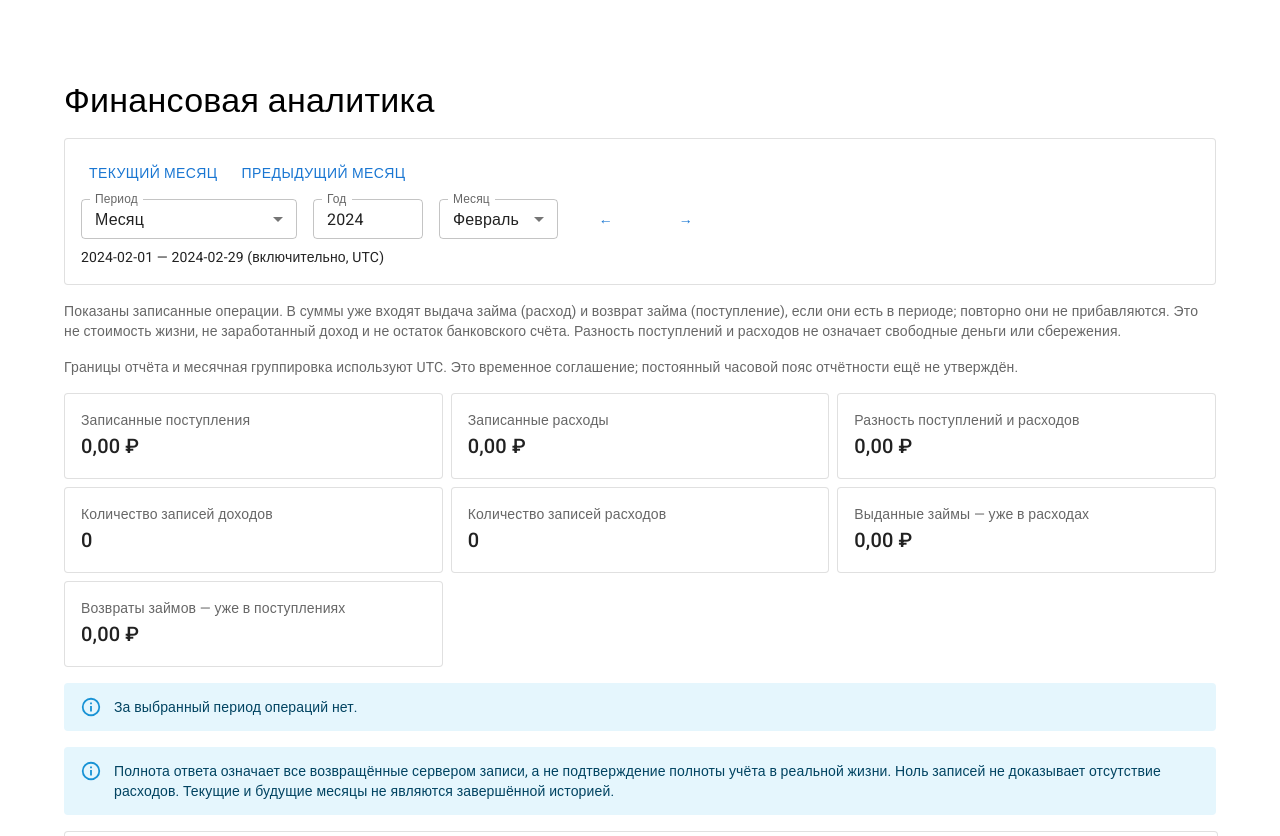
Test: read-only AnalyticsPage with mocked RTK Query transport › handles calendar domain boundaries for month without an arbitrary 2020 minimum
The width and height of the screenshot is (1280, 836).
Expected: the text "Записанные поступления" is shown, [81,412,250,428]
Select "Январь" in the dropdown labelled "Месяц" at (498,220), box [439,200,558,240]
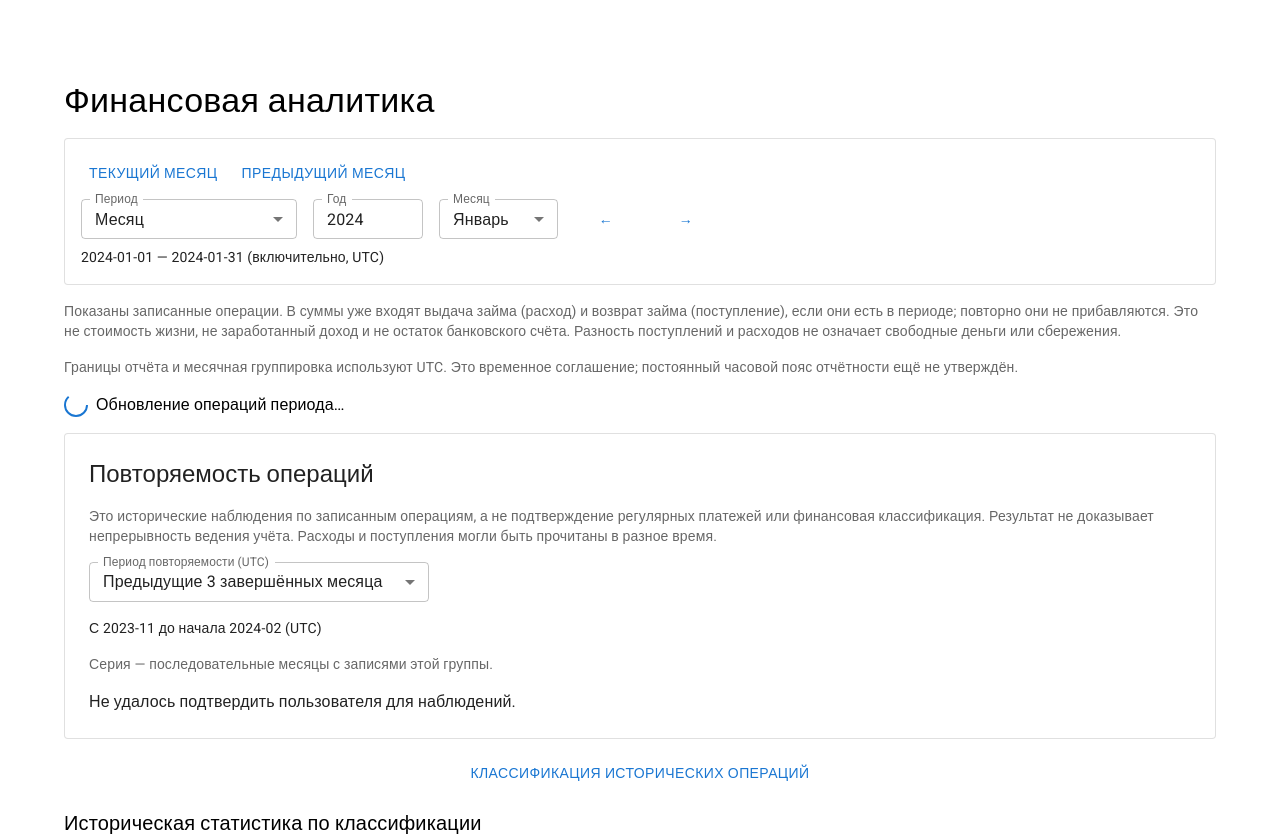
Select "Месяц" in the dropdown labelled "Период" at (189,220), box [81,200,297,240]
Replace the text in the number field labelled "Год" with "1" at (368,220), box [313,200,423,240]
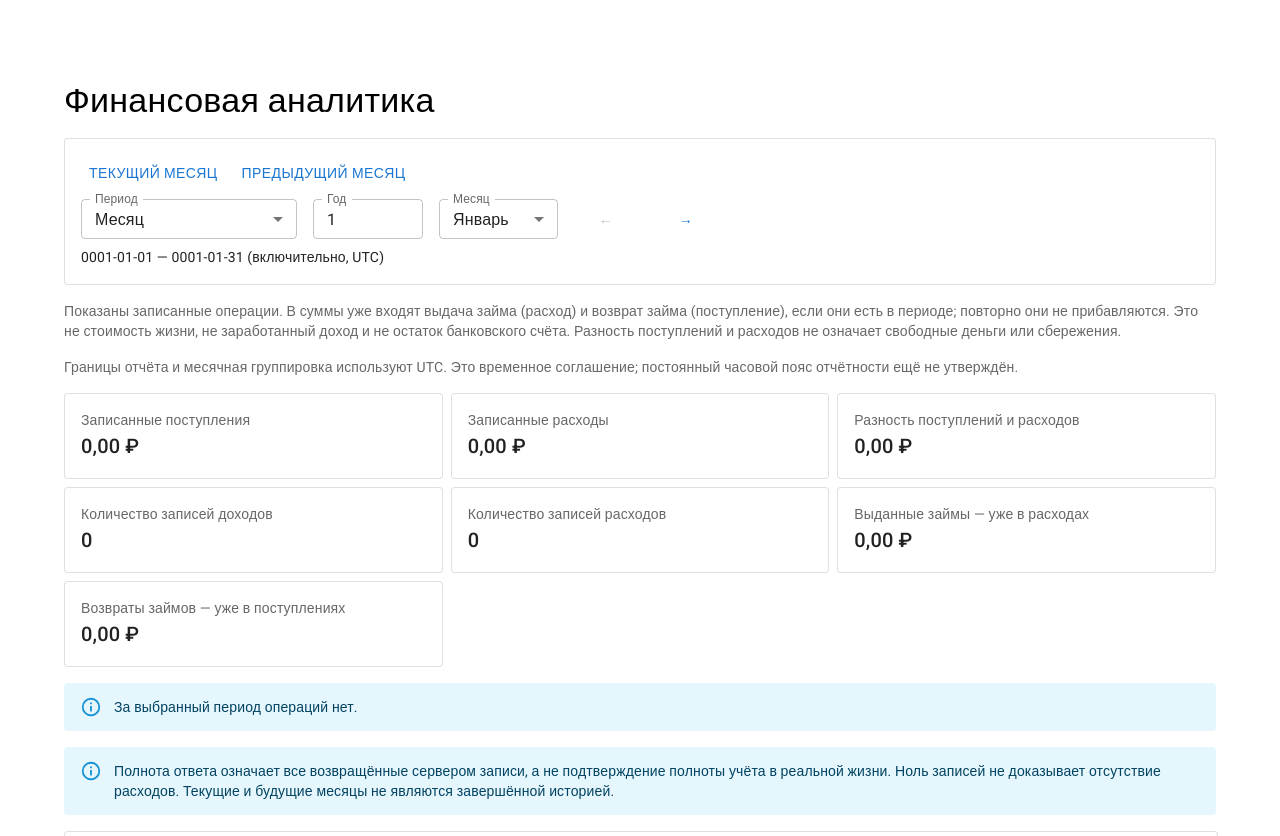
Expected: the button named "Предыдущий календарный период" is disabled, [574,200,638,240]
Expected: the text "Записанные поступления" is shown, [81,412,250,428]
Expected: the text "0001-01-01 — 0001-01-31 (включительно, UTC)" is shown, [81,250,384,266]
Replace the text in the number field labelled "Год" with "9999" at (368,220), box [313,200,423,240]
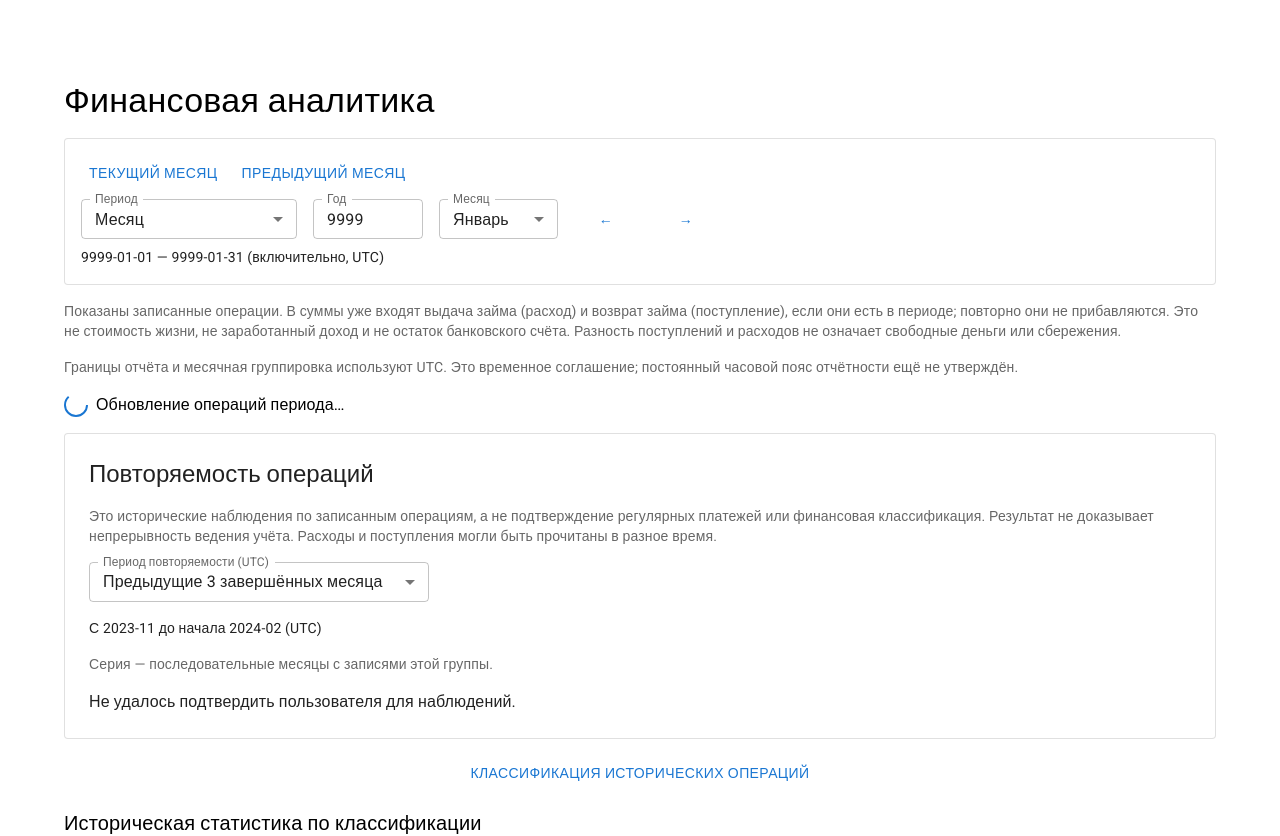
Select "Декабрь" in the dropdown labelled "Месяц" at (498,220), box [439,200,558,240]
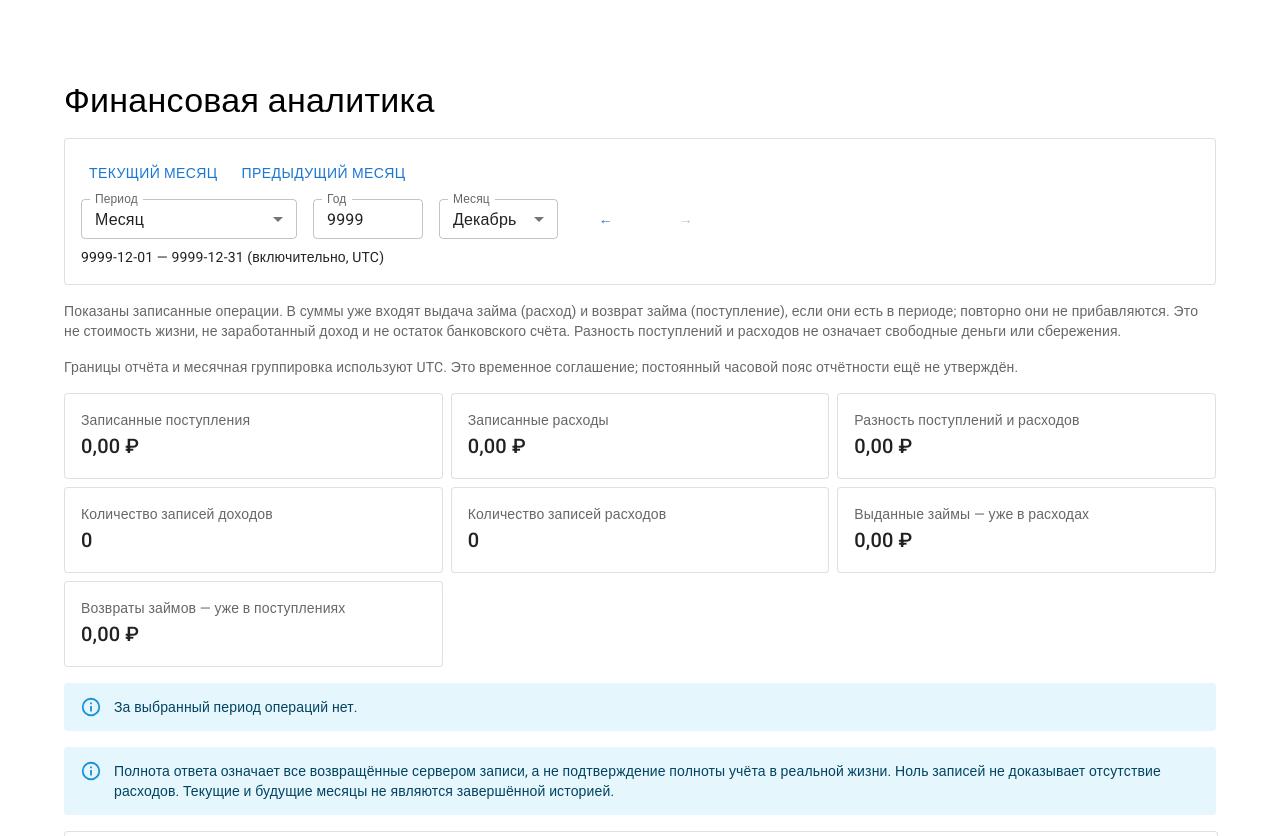
Expected: the button named "Следующий календарный период" is disabled, [654,200,718,240]
Expected: the text "Записанные поступления" is shown, [81,412,250,428]
Expected: the text "9999-12-01 — 9999-12-31 (включительно, UTC)" is shown, [81,250,384,266]
Replace the text in the number field labelled "Год" with "10000" at (368,220), box [313,200,423,240]
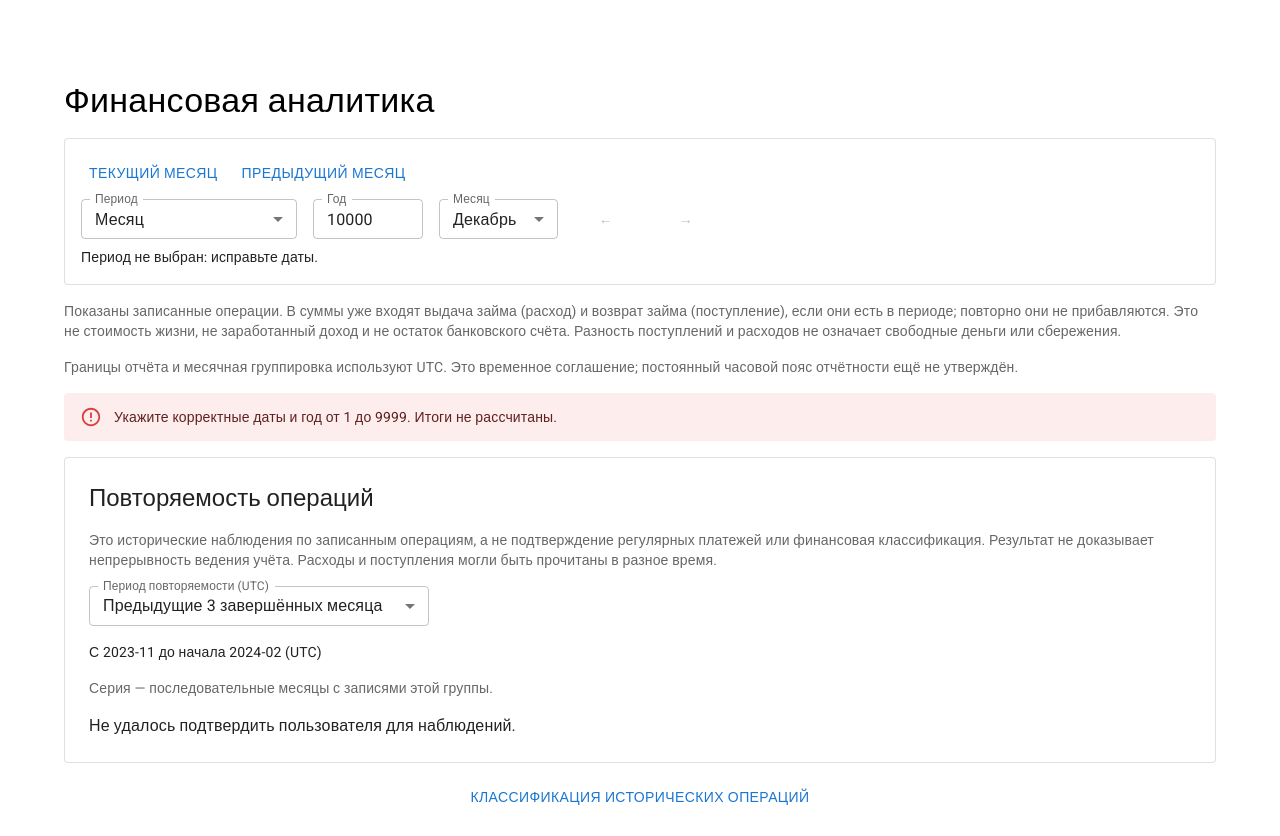
Expected: the message shows "год от 1 до 9999", [114,408,411,424]
Expected: the text "Записанные расходы" is gone
